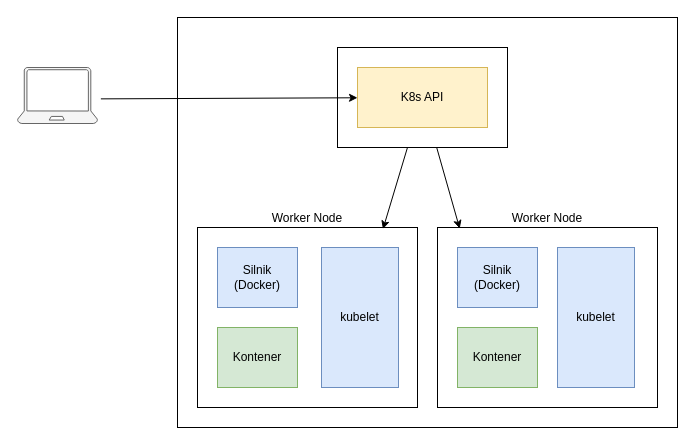
Some shapes in this 695 by 445 pixel diagram are drawn without their labels. Each missing label, with the box of its shape:
kubectl: (16, 66, 98, 124)
Master Node: (336, 46, 508, 148)
